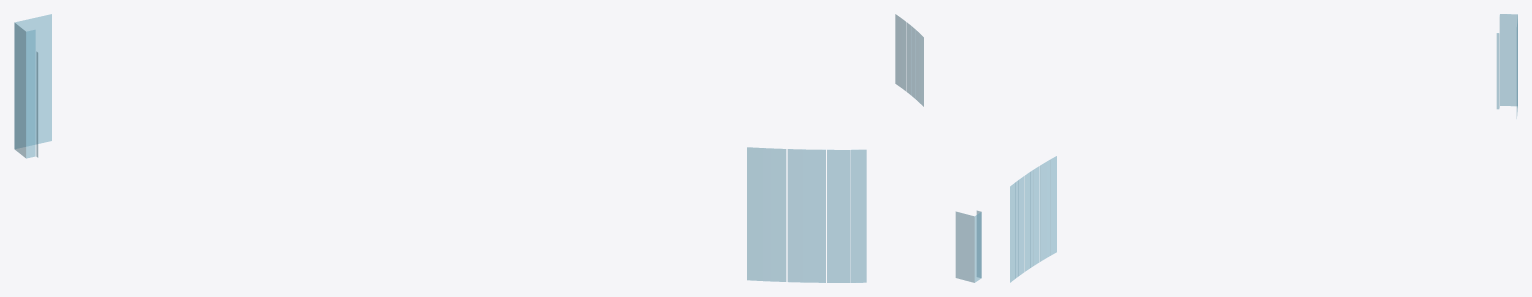
File: 20160125Autodesk_Hospital_Parking Garage_2015_Existing_Garage_-_1st_Level_IfcPlate.dae
The picture shows the model from 3 angles, left to right: view 1: azimuth 30°, elevation 25°; view 2: azimuth 150°, elevation 25°; view 3: azimuth 270°, elevation 25°; orthographic projection. The views are drawn at different scales.
Visible parts, largest first — view 1: 2KtnTJckH2uQtkIHIdQn5e, 2Wfsm7KO5CbA5Y7ZjTaZVJ, 2Wfsm7KO5CbA5Y7ZjTaZMX, 2Wfsm7KO5CbA5Y7ZjTaZ3H, 2Wfsm7KO5CbA5Y7ZjTaZNe, 2Wfsm7KO5CbA5Y7ZjTaZJI, 2Wfsm7KO5CbA5Y7ZjTaZC$, 2KtnTJckH2uQtkIHIdQn5l, 2KtnTJckH2uQtkIHIdQn5X, 2Wfsm7KO5CbA5Y7ZjTaZVc, 2Wfsm7KO5CbA5Y7ZjTaZ0A, 2Wfsm7KO5CbA5Y7ZjTaZN3; view 2: 2KtnTJckH2uQtkIHIdQn5e, 2KtnTJckH2uQtkIHIdQn5l, 2Wfsm7KO5CbA5Y7ZjTaZNe, 2Wfsm7KO5CbA5Y7ZjTaZMX, 2Wfsm7KO5CbA5Y7ZjTaZVJ, 2KtnTJckH2uQtkIHIdQn5X, 2Wfsm7KO5CbA5Y7ZjTaZJI, 2Wfsm7KO5CbA5Y7ZjTaZ3H, 2Wfsm7KO5CbA5Y7ZjTaZN3, 2Wfsm7KO5CbA5Y7ZjTaZC$, 2Wfsm7KO5CbA5Y7ZjTaZ0A, 2Wfsm7KO5CbA5Y7ZjTaZVc; view 3: 2KtnTJckH2uQtkIHIdQn5l, 2Wfsm7KO5CbA5Y7ZjTaZMX, 2Wfsm7KO5CbA5Y7ZjTaZJI, 2Wfsm7KO5CbA5Y7ZjTaZC$, 2Wfsm7KO5CbA5Y7ZjTaZ3H, 2Wfsm7KO5CbA5Y7ZjTaZVJ, 2Wfsm7KO5CbA5Y7ZjTaZNe, 2Wfsm7KO5CbA5Y7ZjTaZN3, 2Wfsm7KO5CbA5Y7ZjTaZ0A.
Boxes of the visible parts, x1,y1,x2,y2 form: 2KtnTJckH2uQtkIHIdQn5e: [15, 14, 51, 148]; 2Wfsm7KO5CbA5Y7ZjTaZVJ: [770, 148, 786, 281]; 2Wfsm7KO5CbA5Y7ZjTaZMX: [827, 149, 843, 282]; 2Wfsm7KO5CbA5Y7ZjTaZ3H: [810, 149, 825, 282]; 2Wfsm7KO5CbA5Y7ZjTaZNe: [851, 149, 866, 282]; 2Wfsm7KO5CbA5Y7ZjTaZJI: [787, 149, 802, 282]; 2Wfsm7KO5CbA5Y7ZjTaZC$: [747, 147, 762, 280]; 2KtnTJckH2uQtkIHIdQn5l: [14, 22, 26, 157]; 2KtnTJckH2uQtkIHIdQn5X: [26, 30, 35, 158]; 2Wfsm7KO5CbA5Y7ZjTaZVc: [762, 148, 769, 281]; 2Wfsm7KO5CbA5Y7ZjTaZ0A: [803, 149, 810, 282]; 2Wfsm7KO5CbA5Y7ZjTaZN3: [843, 150, 850, 282]; 2KtnTJckH2uQtkIHIdQn5e: [955, 211, 974, 282]; 2KtnTJckH2uQtkIHIdQn5l: [974, 212, 981, 282]; 2Wfsm7KO5CbA5Y7ZjTaZNe: [895, 14, 899, 86]; 2Wfsm7KO5CbA5Y7ZjTaZMX: [901, 19, 905, 90]; 2Wfsm7KO5CbA5Y7ZjTaZVJ: [915, 30, 919, 101]; 2KtnTJckH2uQtkIHIdQn5X: [976, 210, 981, 277]; 2Wfsm7KO5CbA5Y7ZjTaZJI: [912, 26, 915, 98]; 2Wfsm7KO5CbA5Y7ZjTaZ3H: [906, 22, 909, 93]; 2Wfsm7KO5CbA5Y7ZjTaZN3: [899, 17, 901, 87]; 2Wfsm7KO5CbA5Y7ZjTaZC$: [921, 35, 923, 106]; 2Wfsm7KO5CbA5Y7ZjTaZ0A: [910, 25, 911, 95]; 2Wfsm7KO5CbA5Y7ZjTaZVc: [919, 33, 920, 103]; 2KtnTJckH2uQtkIHIdQn5l: [1500, 14, 1517, 106]; 2Wfsm7KO5CbA5Y7ZjTaZMX: [1018, 176, 1024, 276]; 2Wfsm7KO5CbA5Y7ZjTaZJI: [1033, 166, 1039, 265]; 2Wfsm7KO5CbA5Y7ZjTaZC$: [1050, 156, 1056, 255]; 2Wfsm7KO5CbA5Y7ZjTaZ3H: [1024, 172, 1030, 271]; 2Wfsm7KO5CbA5Y7ZjTaZVJ: [1040, 162, 1046, 261]; 2Wfsm7KO5CbA5Y7ZjTaZNe: [1010, 182, 1015, 282]; 2Wfsm7KO5CbA5Y7ZjTaZN3: [1015, 181, 1018, 278]; 2Wfsm7KO5CbA5Y7ZjTaZ0A: [1030, 170, 1033, 267].
Bounding box in the file's own units: 75.75 × 91.55 × 19.28.
